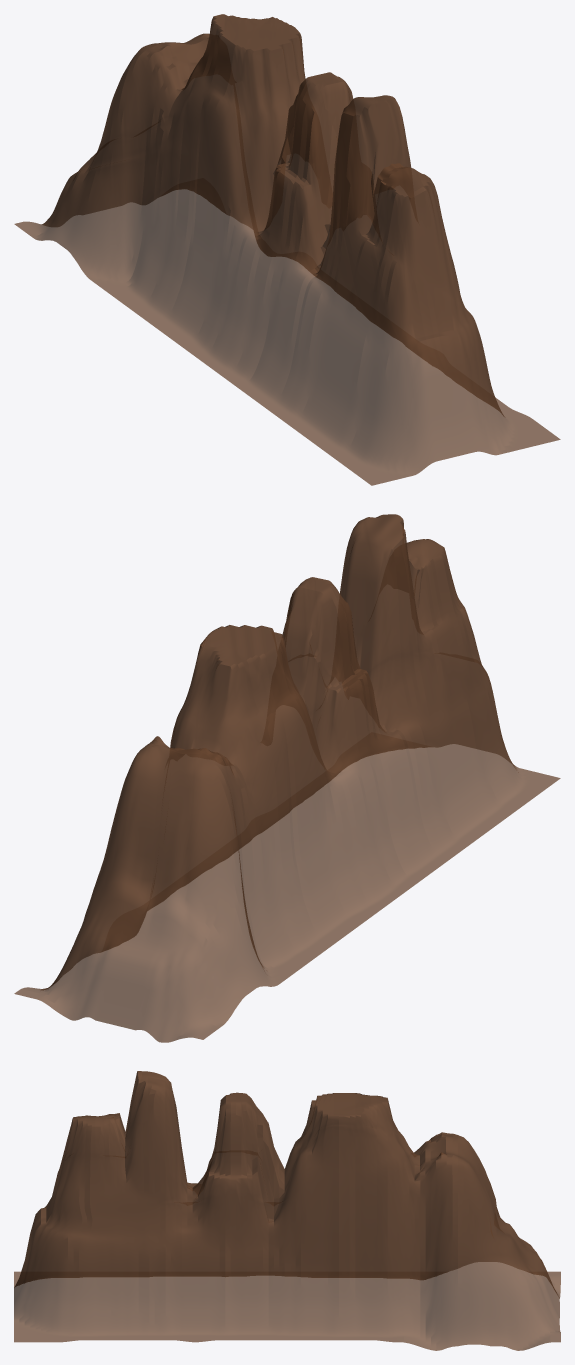
The model's file is Highmountain.glb.
3 views of the same model, one above another, from view 1: azimuth 30°, elevation 25°; view 2: azimuth 150°, elevation 25°; view 3: azimuth 270°, elevation 25° (orthographic). The views are drawn at different scales.
Parts seen in each view (by area): view 1: Plane; view 2: Plane; view 3: Plane.
Part boxes in pixels (<box>): Plane: <box>14,14,560,485</box>; Plane: <box>14,514,560,1042</box>; Plane: <box>14,1071,560,1350</box>.
Size of the model in its own units: 9.56 by 15.3 by 31.29.
